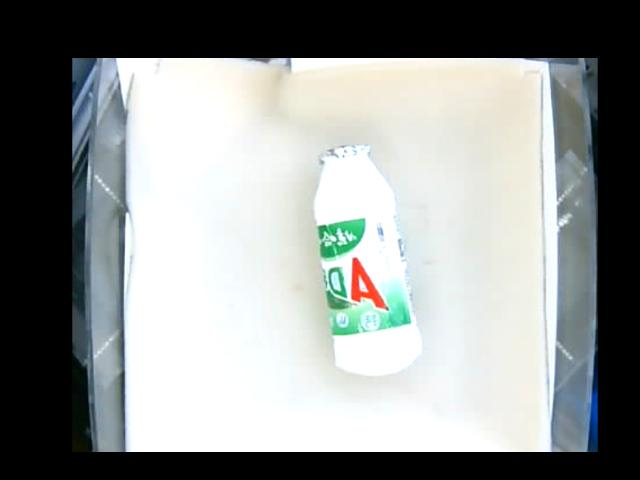Bottle: (312, 146, 422, 375)
